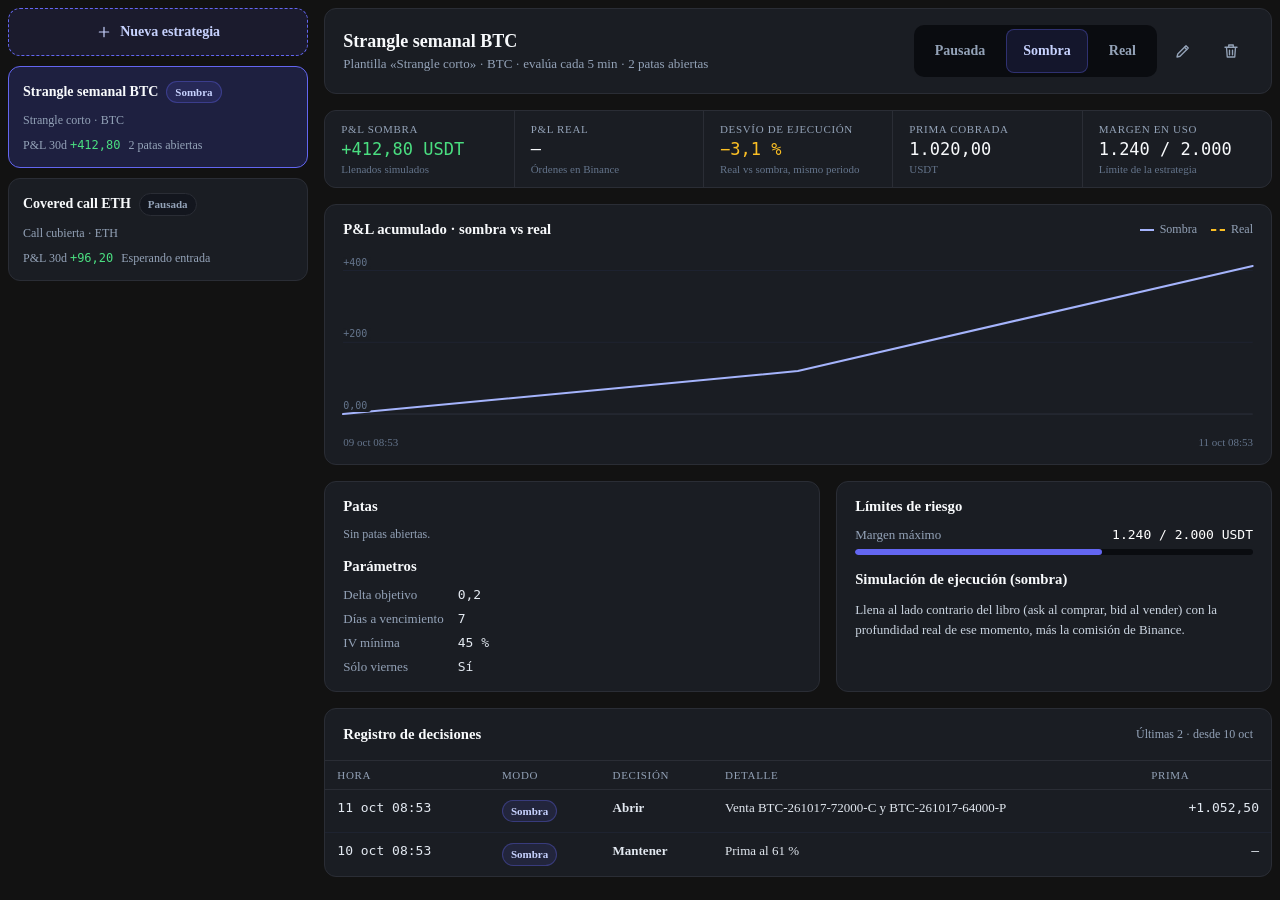
Test: StrategiesTab · escritorio › lista → selecciona la primera y muestra su detalle; al pulsar otra carga su detalle
Expected: the heading "Strangle semanal BTC" is shown, [343,30,517,50]
Expected: the text "Prima al 61 %" is shown, [713,833,1139,876]
Click the button "Covered call ETH".
click(77, 204)  # box [8,178,308,281]
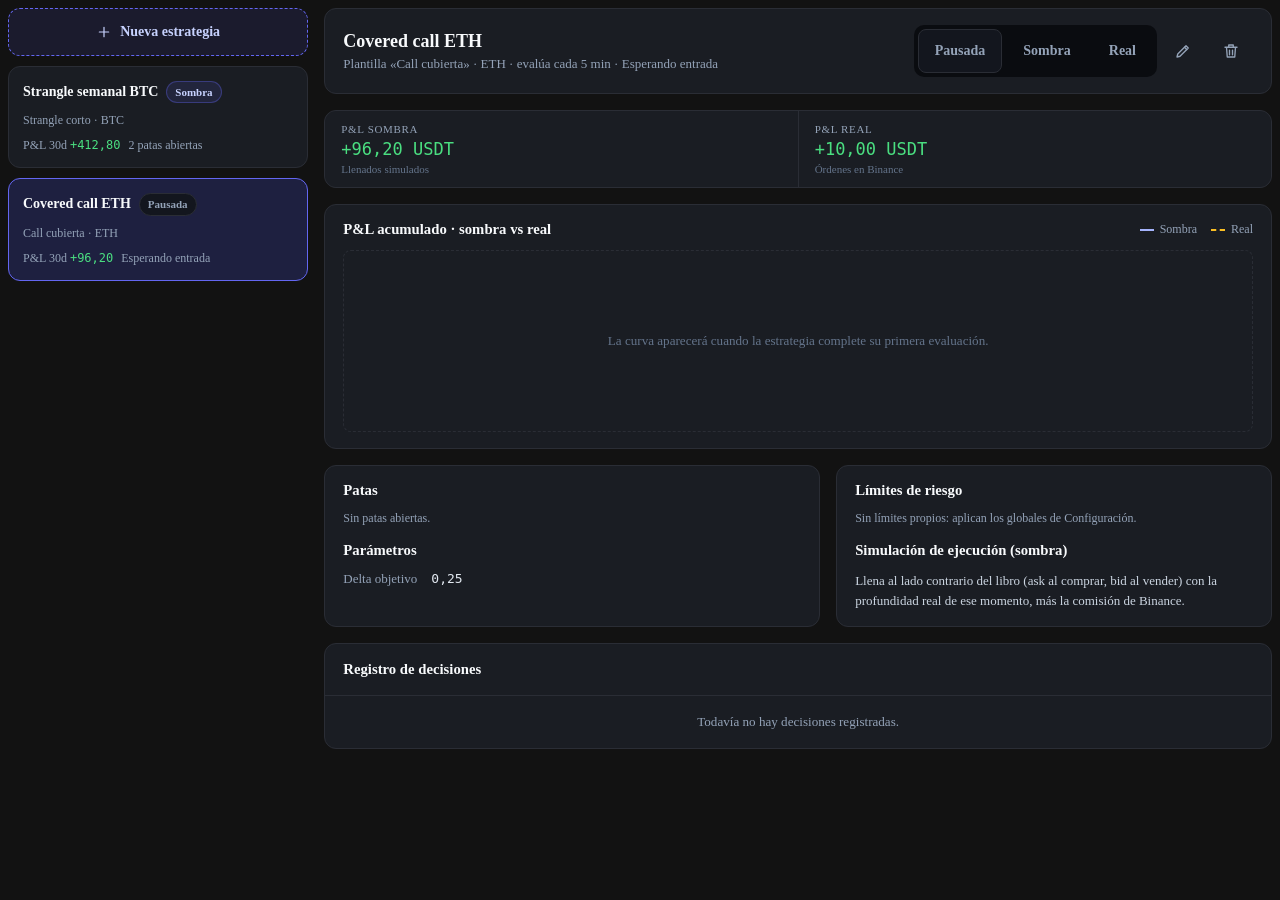
Expected: the heading "Covered call ETH" is shown, [343,30,482,50]
Expected: the text "Todavía no hay decisiones registradas." is shown, [697,714,899,729]
